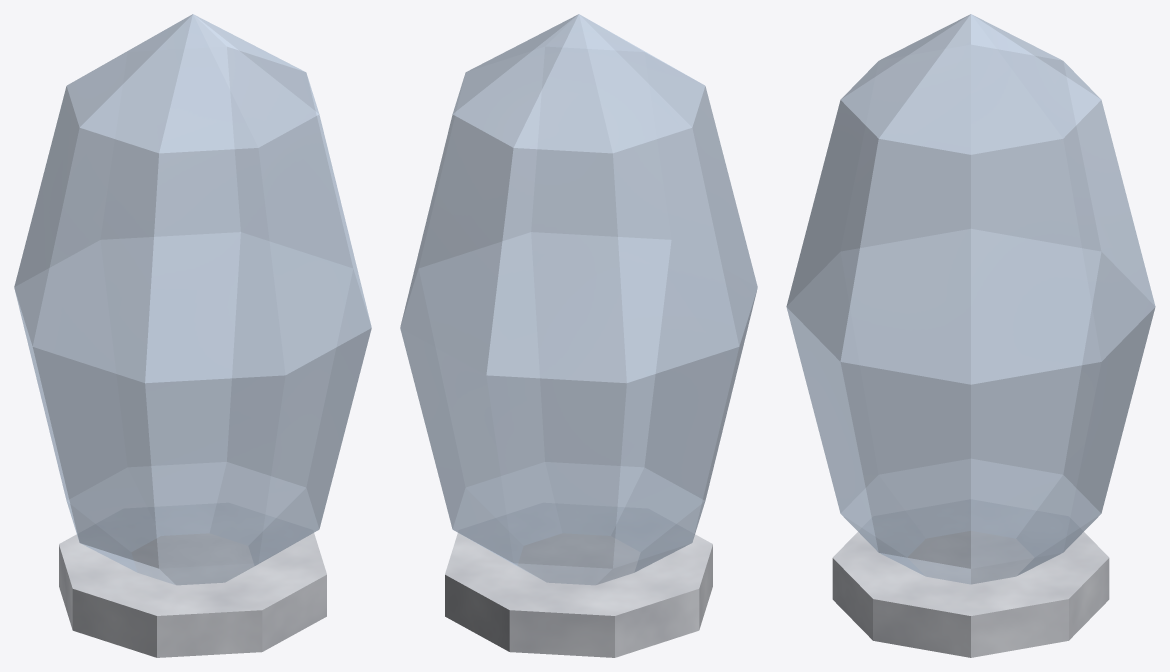
The model's file is mdl_pieza_cristal.fbx.
The picture shows the model from 3 angles, left to right: view 1: azimuth 30°, elevation 25°; view 2: azimuth 150°, elevation 25°; view 3: azimuth 270°, elevation 25°; orthographic projection.
Parts seen in each view (by area): view 1: cristal_zafiro, metal_plata; view 2: cristal_zafiro, metal_plata; view 3: cristal_zafiro, metal_plata.
Boxes of the visible parts, x1,y1,x2,y2 form: cristal_zafiro: (14,14,371,585); metal_plata: (59,503,326,657); cristal_zafiro: (400,14,757,585); metal_plata: (445,503,712,657); cristal_zafiro: (786,14,1155,584); metal_plata: (832,500,1109,657).
Size of the model in its own units: 80 by 140 by 80.
